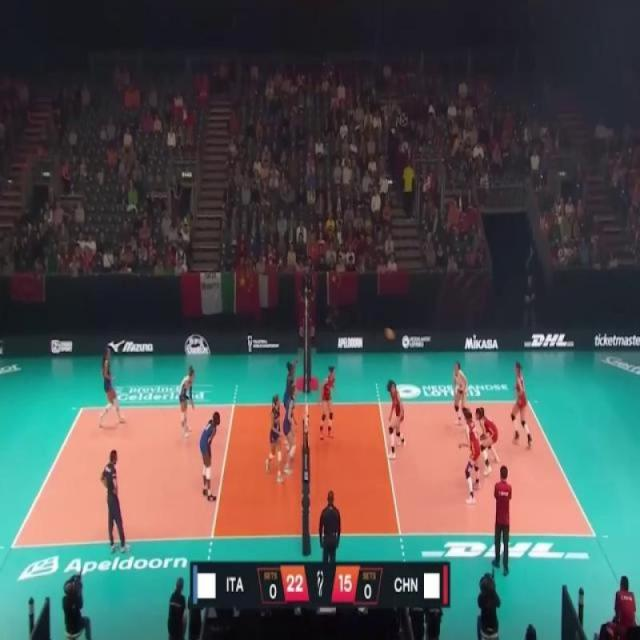volleyball: (384, 326, 395, 341)
